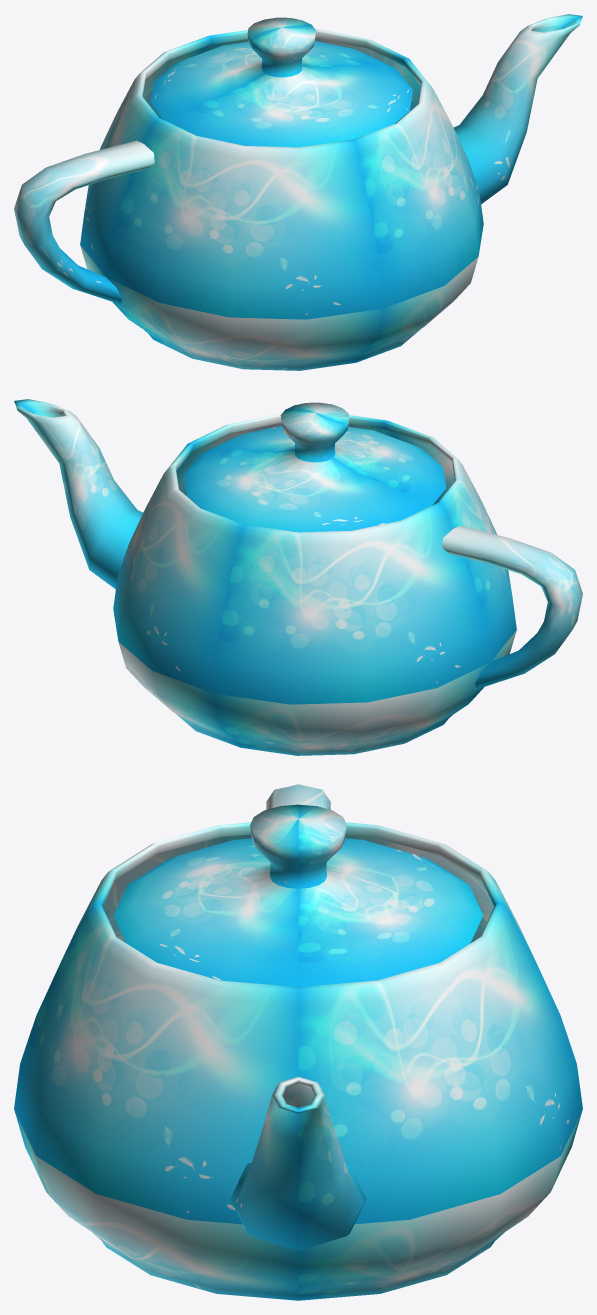
File: Tepot.FBX
3 renders of one model, top to bottom at view 1: azimuth 30°, elevation 25°; view 2: azimuth 150°, elevation 25°; view 3: azimuth 270°, elevation 25°, orthographic. The views are drawn at different scales.
Parts seen in each view (by area): view 1: Teapot001; view 2: Teapot001; view 3: Teapot001.
Boxes of the visible parts, x1,y1,x2,y2 form: Teapot001: (14, 14, 582, 370); Teapot001: (14, 399, 582, 755); Teapot001: (14, 784, 582, 1300).
Size of the model in its own units: 64.28 by 31.5 by 40.
1 material, 1 textured.
